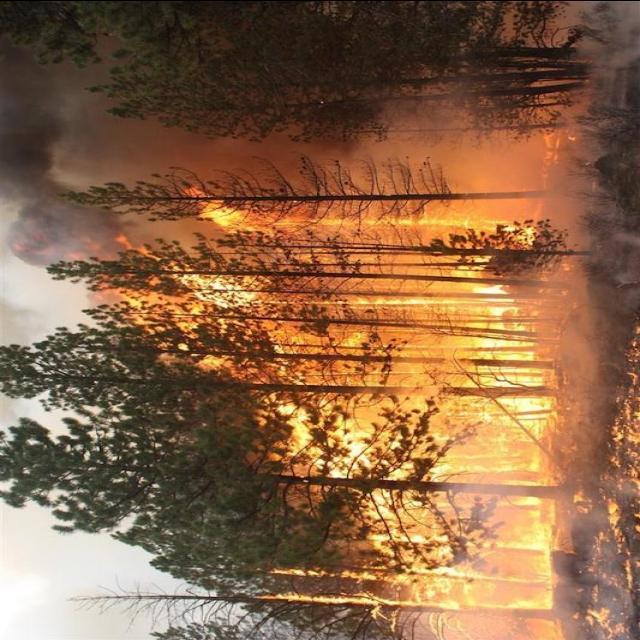Fire: (103, 177, 640, 639)
